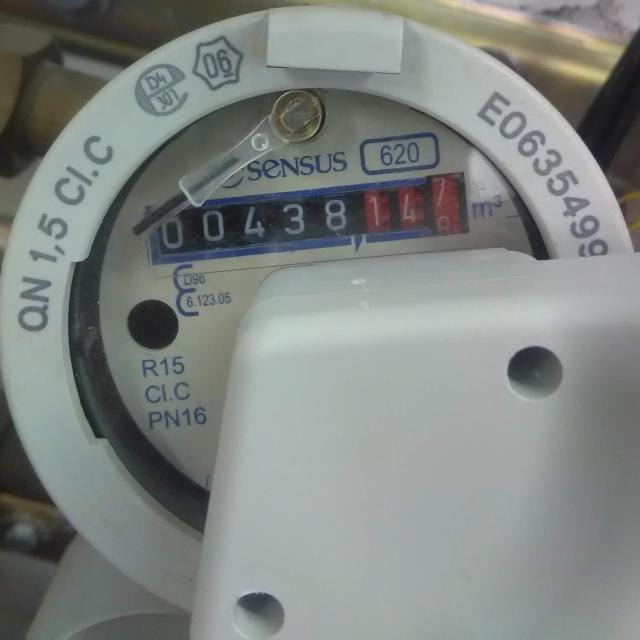gaz_meter: (3, 5, 640, 620)
indication: (145, 172, 469, 266)
